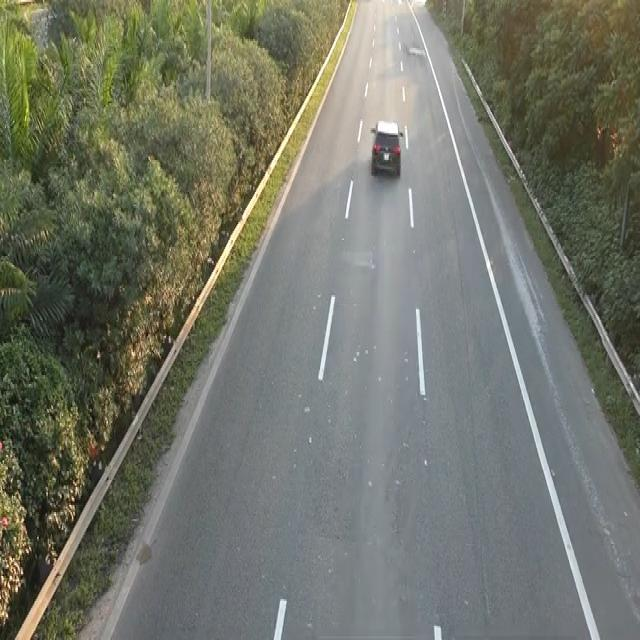car: (369, 116, 404, 178)
